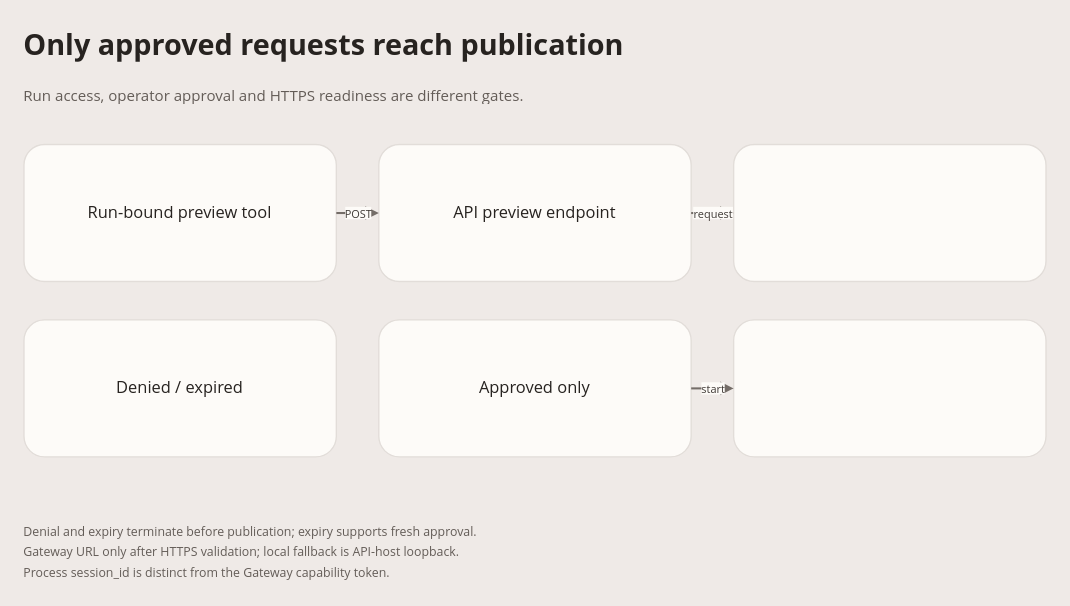
This 1070x606 diagram has some shape labels left out. The shapes that lost their labels are listed below. From the top down, each one's box as (x1, y1, x2, y2) in pixels, then its label:
(732, 143, 1046, 282): AgentPreviewGate
(732, 319, 1046, 457): Shared start path
